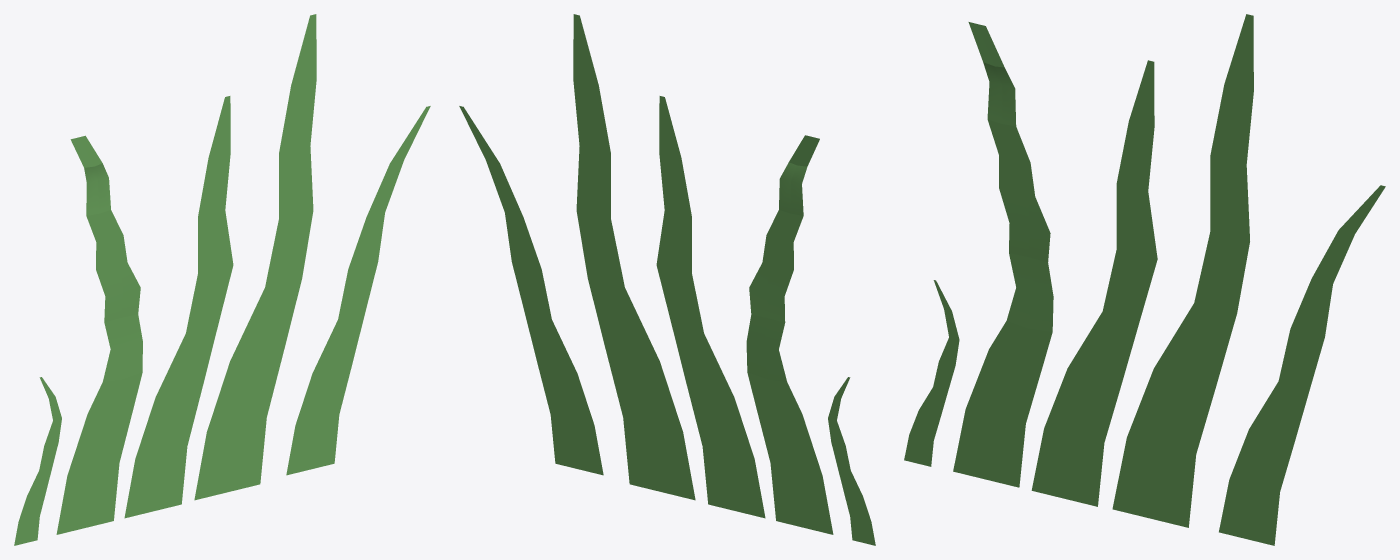
File: Grass1.fbx
3 views of the same model, side by side, from view 1: azimuth 30°, elevation 25°; view 2: azimuth 150°, elevation 25°; view 3: azimuth 330°, elevation 25° (orthographic). The views are drawn at different scales.
Visible parts, largest first — view 1: Grass_1; view 2: Grass_1; view 3: Grass_1.
Boxes of the visible parts, <box> form: Grass_1: <box>14,14,430,545</box>; Grass_1: <box>459,14,875,545</box>; Grass_1: <box>904,14,1385,545</box>.
Size of the model in its own units: 2.17 by 2.28 by 0.0126.
